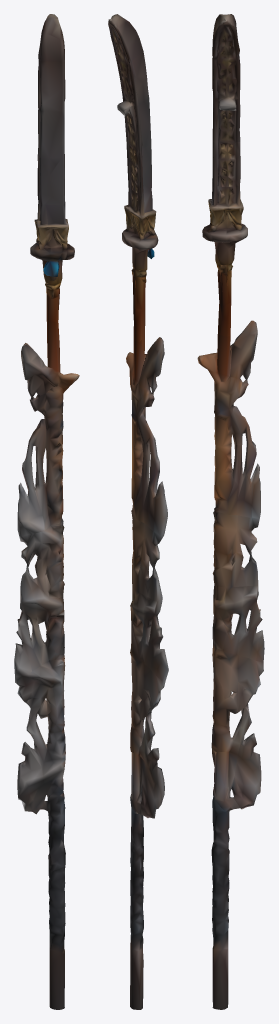
The model's file is blade-yanyue.glb.
3 views of the same model, side by side, from view 1: azimuth 90°, elevation 25°; view 2: azimuth 210°, elevation 25°; view 3: azimuth 270°, elevation 25° (orthographic). The views are drawn at different scales.
Parts seen in each view (by area): view 1: blade-yanyue; view 2: blade-yanyue; view 3: blade-yanyue.
Part boxes in pixels (<box>): blade-yanyue: <box>14,14,79,1009</box>; blade-yanyue: <box>108,14,168,1009</box>; blade-yanyue: <box>197,14,264,1009</box>.
Size of the model in its own units: 0.1089 by 2.3 by 0.1392.
